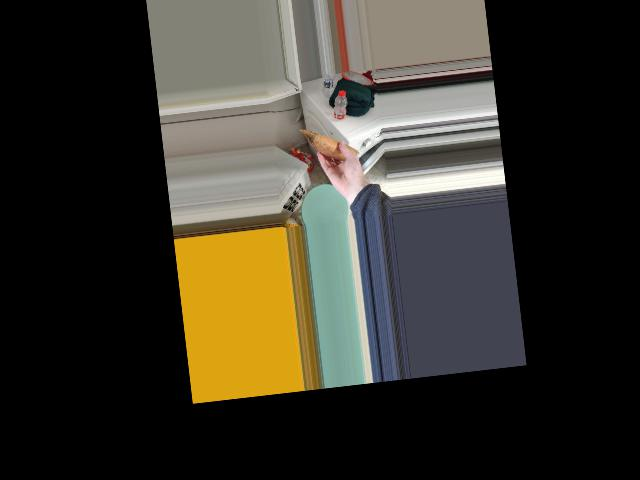sweet_potato: (314, 132, 350, 163)
